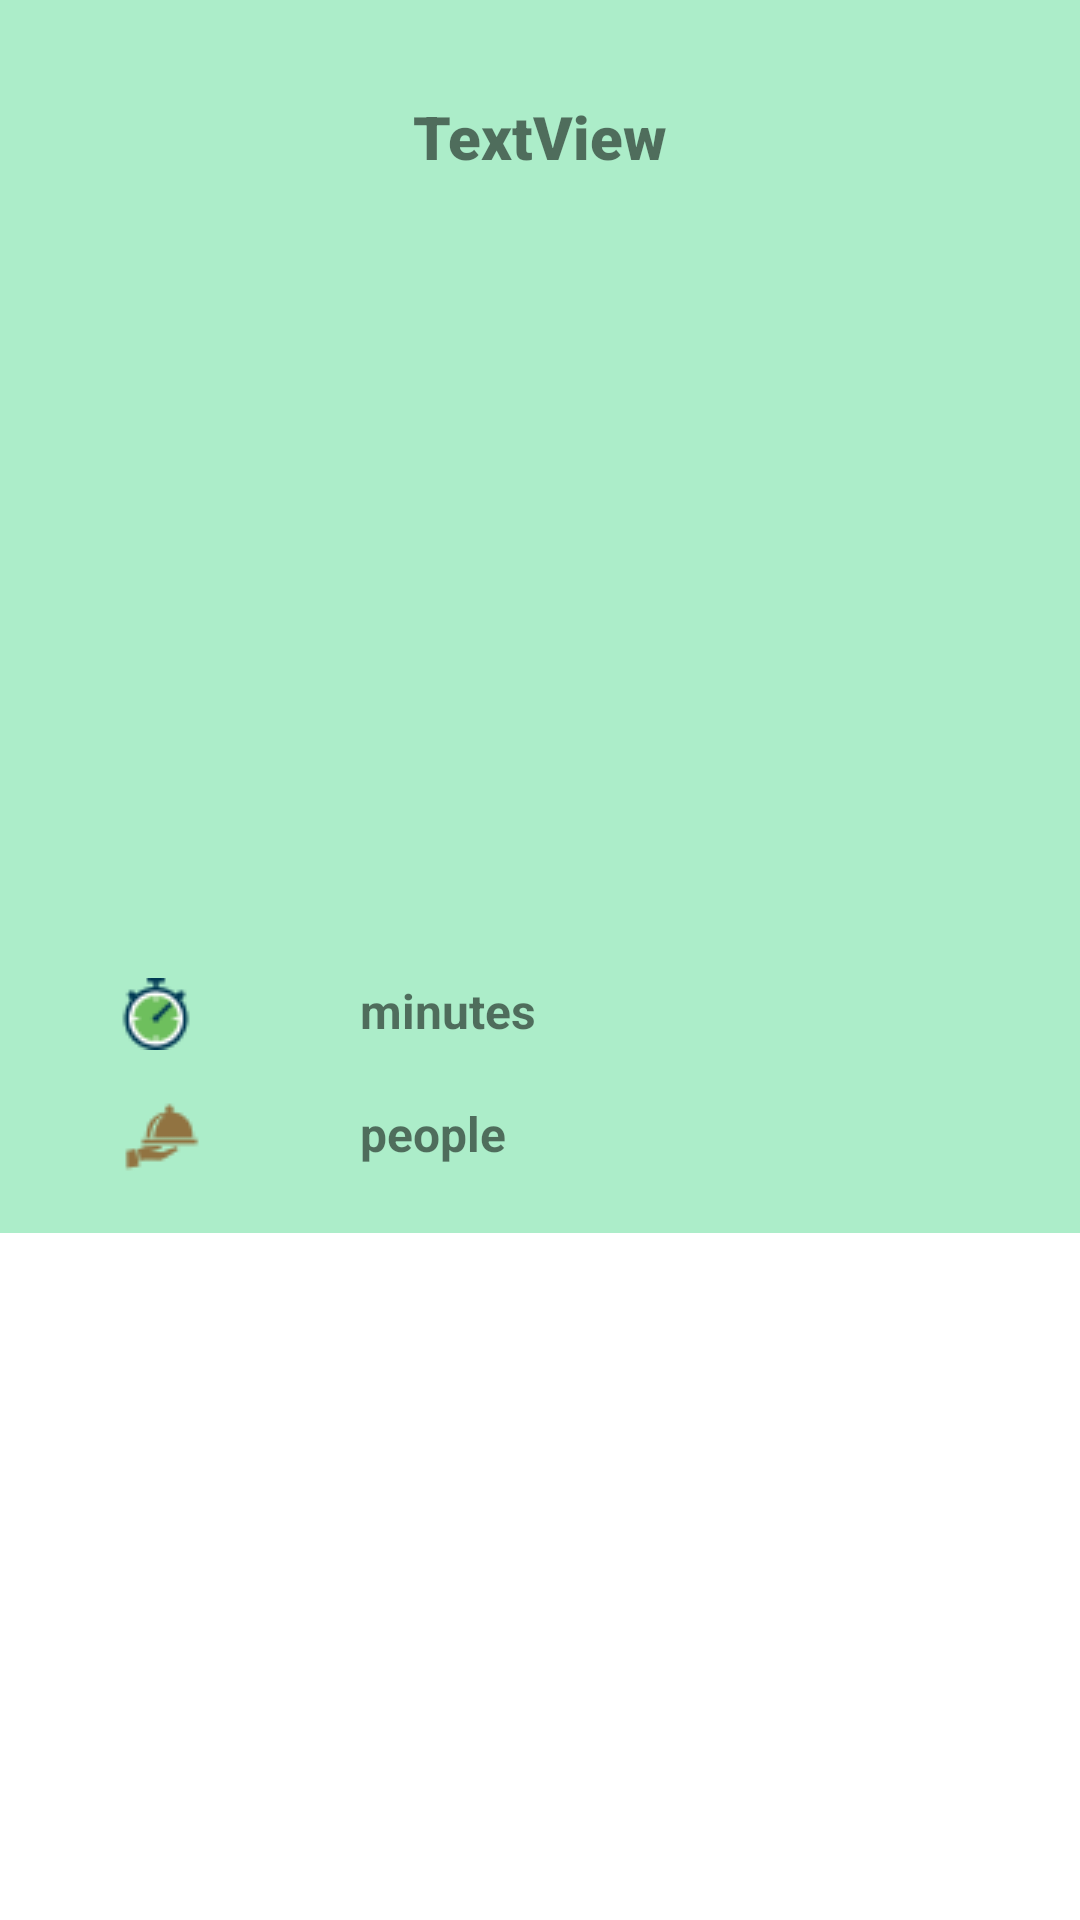

Named icons in this screenshot (1080 × 1920) and their centers, point (x, y):
clock: point (156, 1014)
serve: point (162, 1136)
